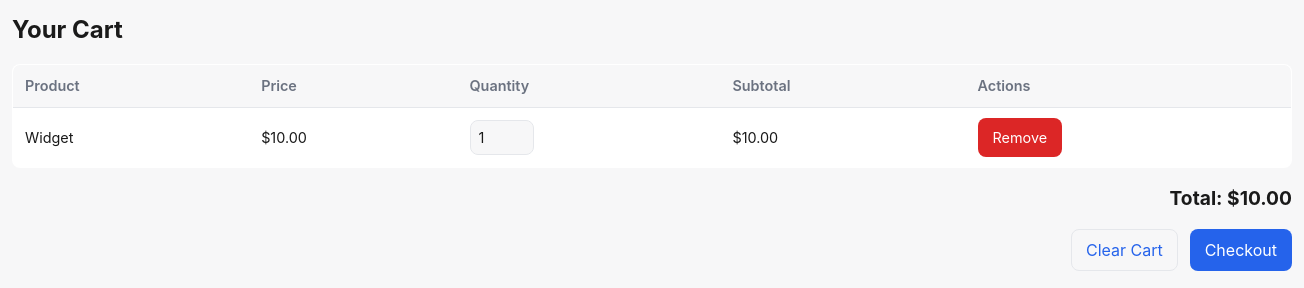
Cart › clears the whole cart
Click the button "Clear Cart".
click(1124, 250)  # box [1071,229,1178,271]
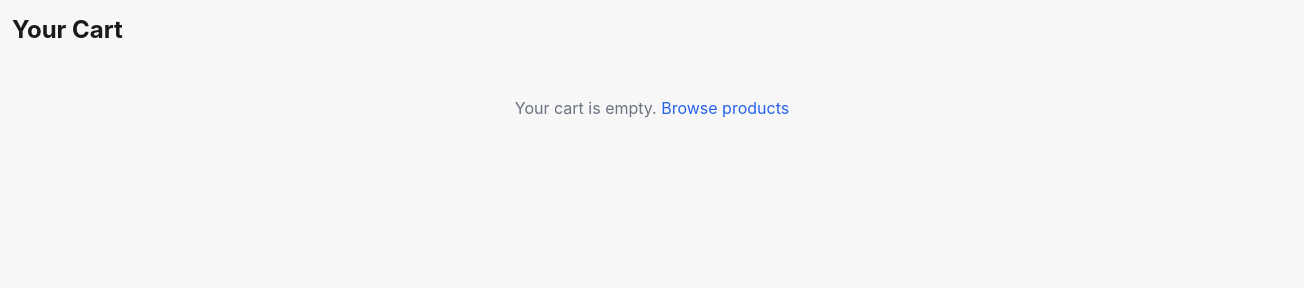
expect the text "Your cart is empty. Browse products" is shown: met, box [515,98,789,118]
